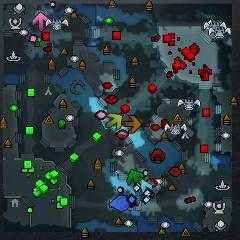p1: (111, 196, 130, 212)
x1: (33, 13, 50, 31)
x2: (106, 112, 123, 130)
x3: (134, 180, 153, 194)
x4: (127, 169, 144, 186)
x5: (123, 114, 142, 134)
